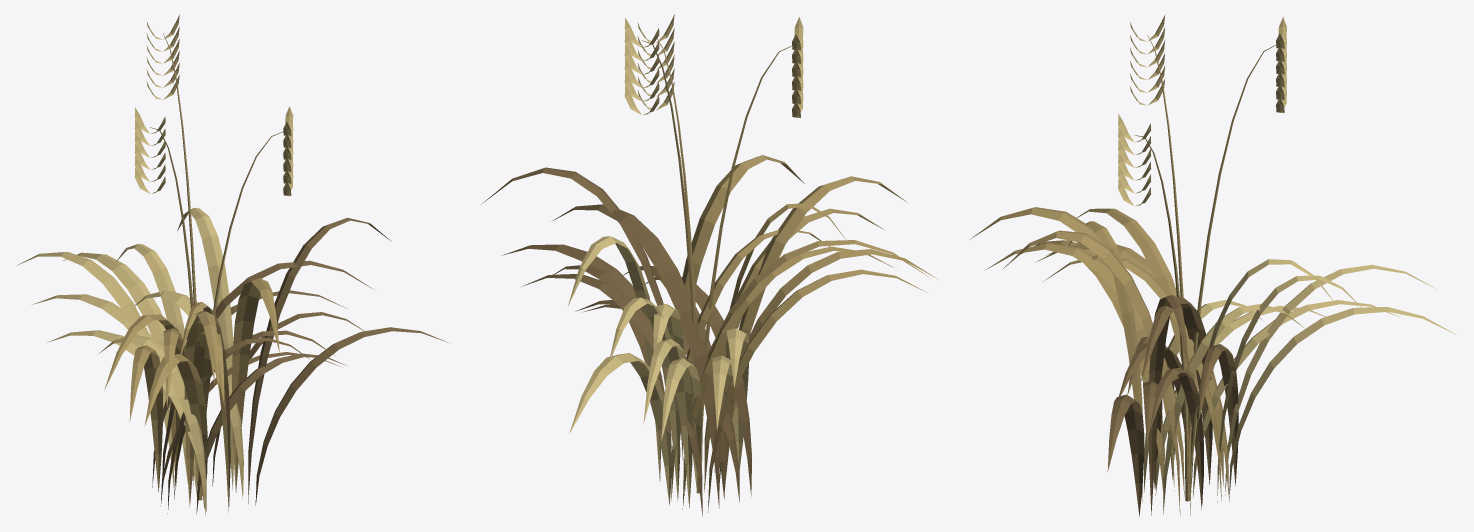
File: SAND_GRASS_CLUMP.hi.glb
The picture shows the model from 3 angles, left to right: view 1: azimuth 30°, elevation 25°; view 2: azimuth 150°, elevation 25°; view 3: azimuth 270°, elevation 25°; orthographic projection. The views are drawn at different scales.
Parts seen in each view (by area): view 1: SAND_GRASS_CLUMP; view 2: SAND_GRASS_CLUMP; view 3: SAND_GRASS_CLUMP.
Part boxes in pixels (<box>): SAND_GRASS_CLUMP: <box>16,15,448,515</box>; SAND_GRASS_CLUMP: <box>482,14,936,516</box>; SAND_GRASS_CLUMP: <box>969,14,1457,516</box>.
Bounding box in the file's own units: 0.5757 × 0.6741 × 0.6269.
Materials: 1 (1 with a texture image).
